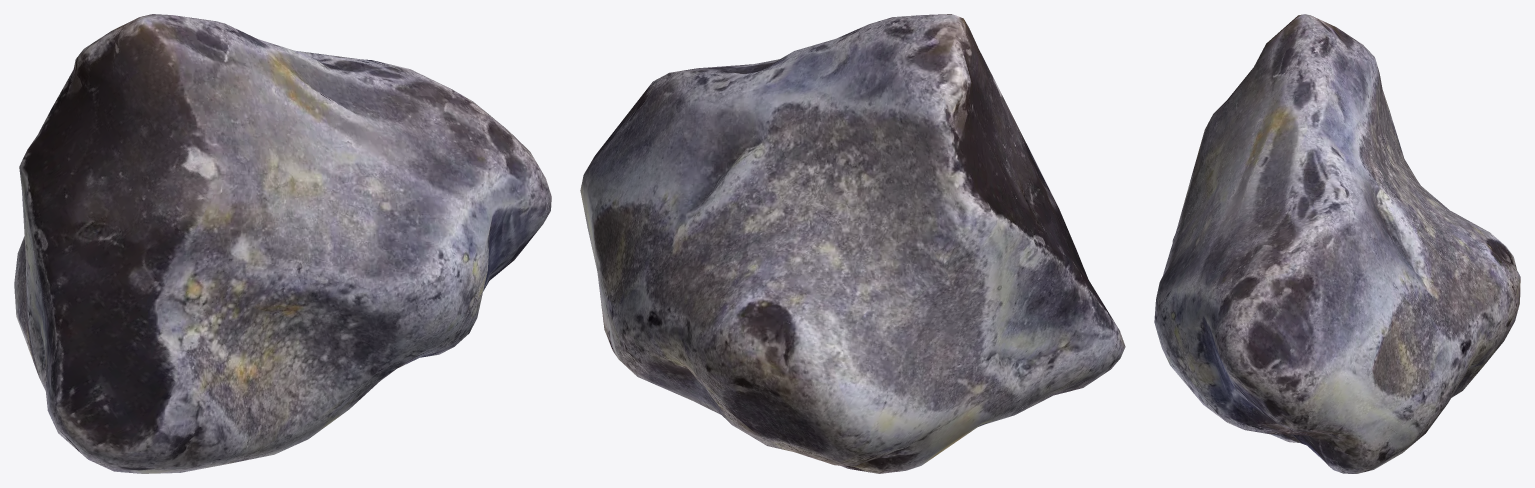
File: tool-rock.glb
The picture shows the model from 3 angles, left to right: view 1: azimuth 30°, elevation 25°; view 2: azimuth 150°, elevation 25°; view 3: azimuth 270°, elevation 25°; orthographic projection. The views are drawn at different scales.
Parts seen in each view (by area): view 1: tmp.o.001; view 2: tmp.o.001; view 3: tmp.o.001.
Part boxes in pixels (box(x1,y1,x2,y2)): tmp.o.001: box(14, 14, 551, 473); tmp.o.001: box(580, 14, 1125, 473); tmp.o.001: box(1154, 14, 1520, 473).
Bounding box in the file's own units: 90.78 × 74.19 × 67.29.
1 material, 1 textured.
